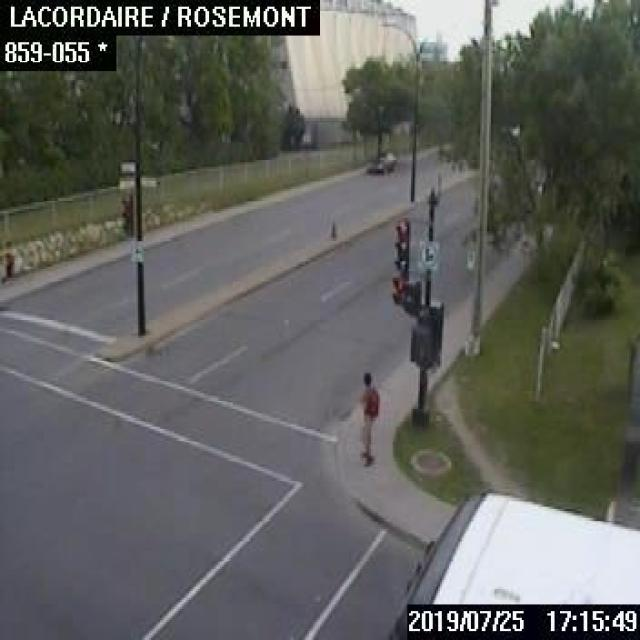pedestrian: (355, 366, 378, 466)
vehicle: (389, 487, 638, 638), (411, 606, 638, 638), (366, 150, 396, 172)
